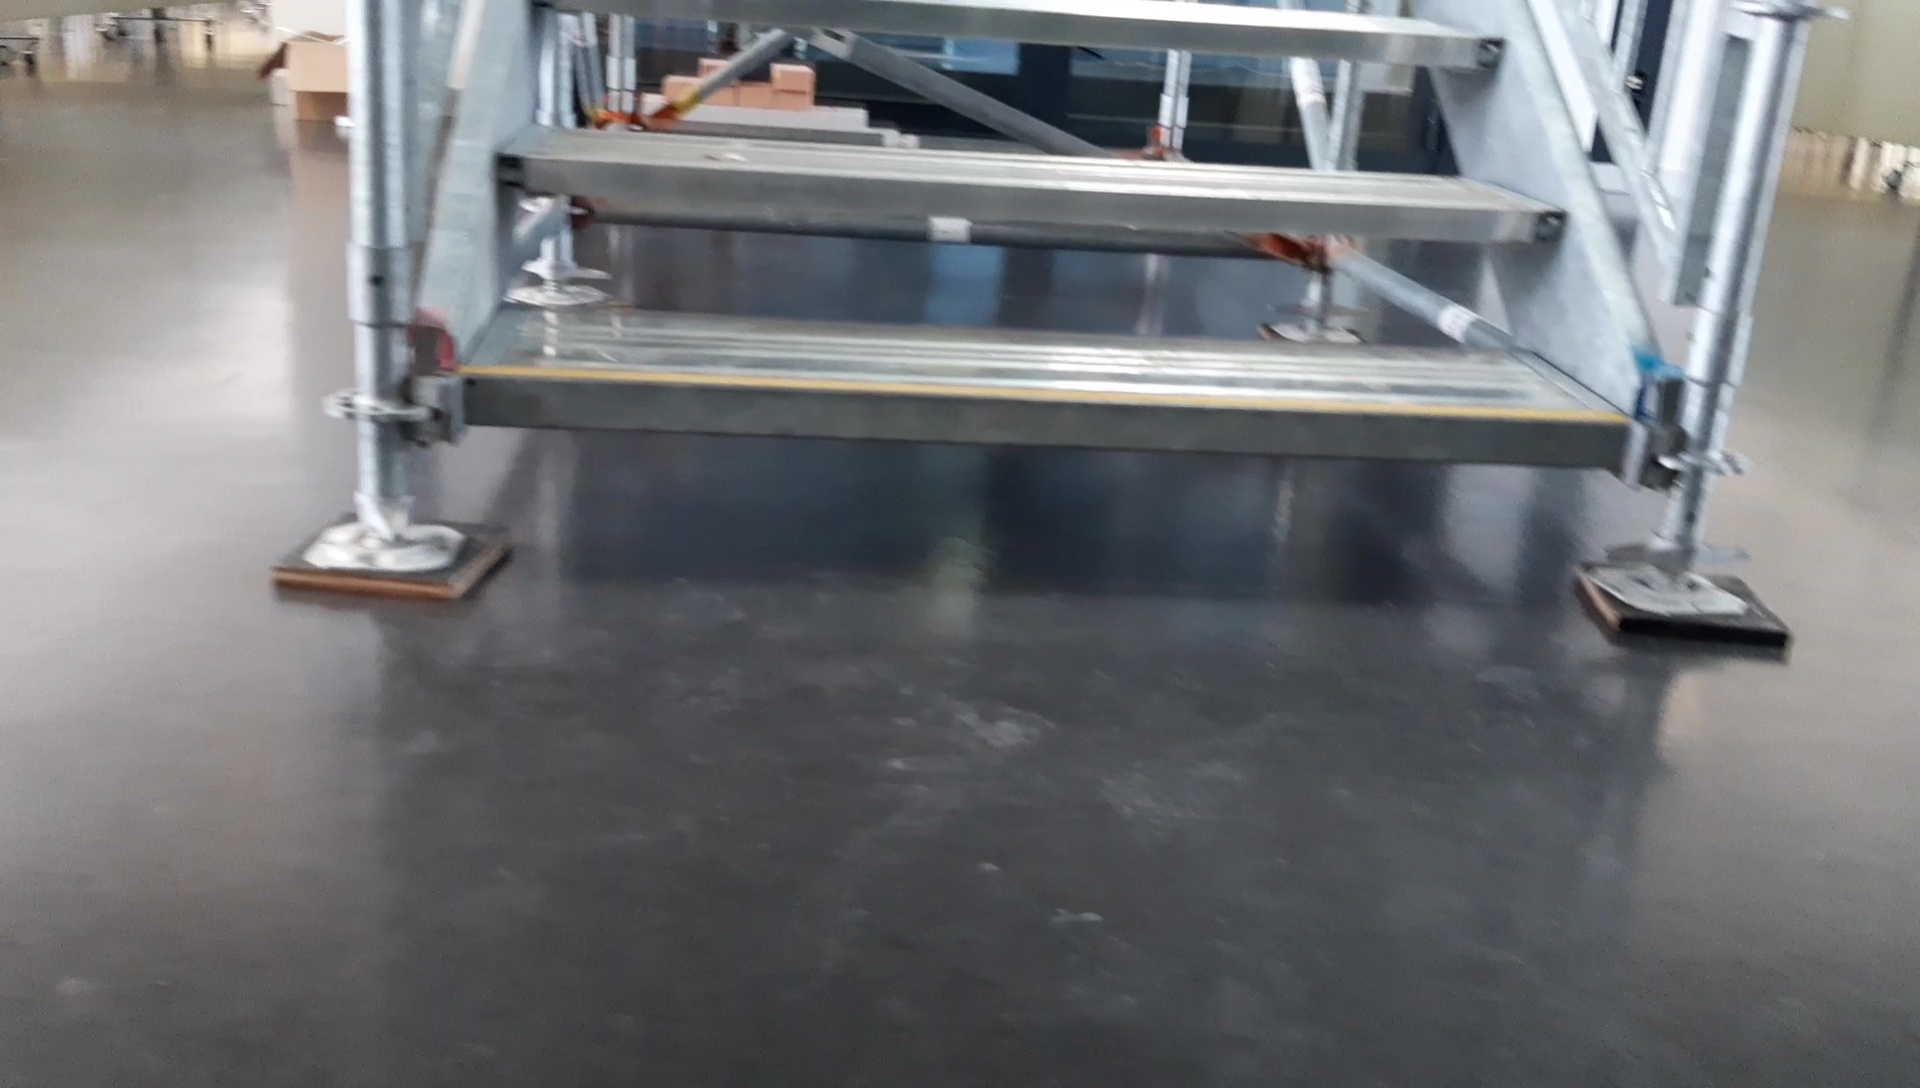brick: (771, 65, 814, 86), (698, 103, 737, 123), (775, 86, 812, 106), (737, 84, 771, 106), (767, 106, 800, 125), (832, 109, 866, 127), (738, 106, 764, 125), (804, 109, 829, 127)
edge: (463, 369, 1630, 466), (495, 154, 1567, 243)
stairs: (274, 0, 1793, 648)
